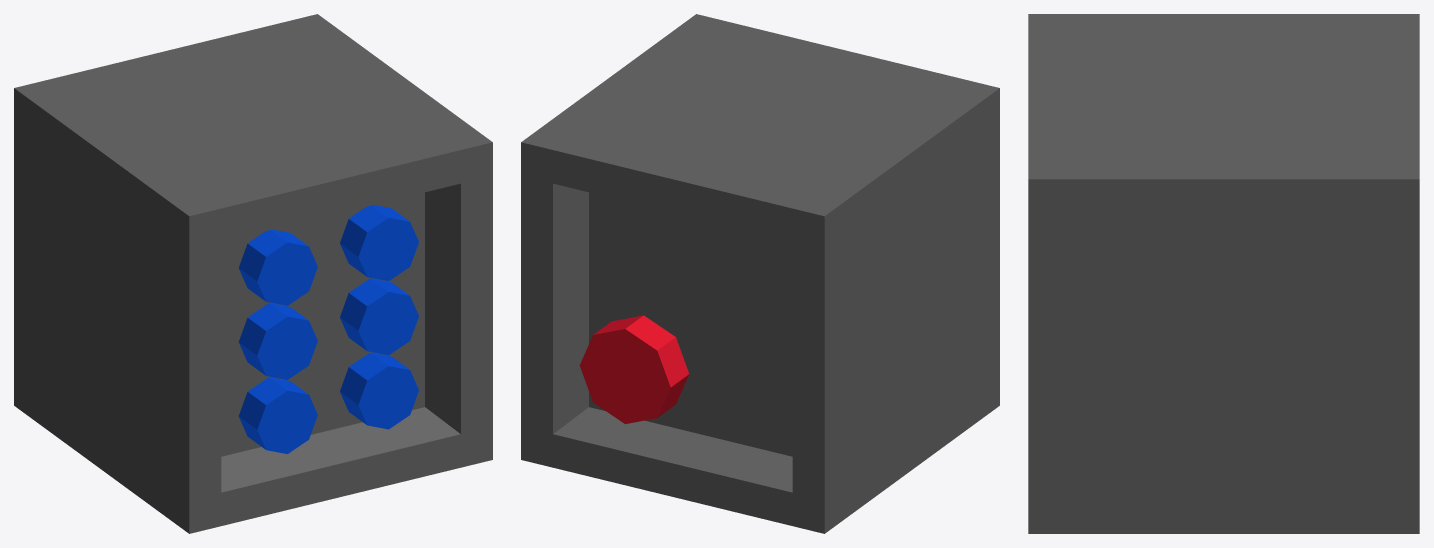
File: powerbox32-1.glb
The picture shows the model from 3 angles, left to right: view 1: azimuth 30°, elevation 25°; view 2: azimuth 150°, elevation 25°; view 3: azimuth 270°, elevation 25°; orthographic projection. The views are drawn at different scales.
Visible parts, largest first — view 1: Powerbox; view 2: Powerbox; view 3: Powerbox.
Part boxes in pixels (x1,y1,x2,y2): Powerbox: [14, 14, 492, 533]; Powerbox: [521, 14, 999, 533]; Powerbox: [1028, 14, 1419, 533].
Size of the model in its own units: 0.3 by 0.3 by 0.3.
